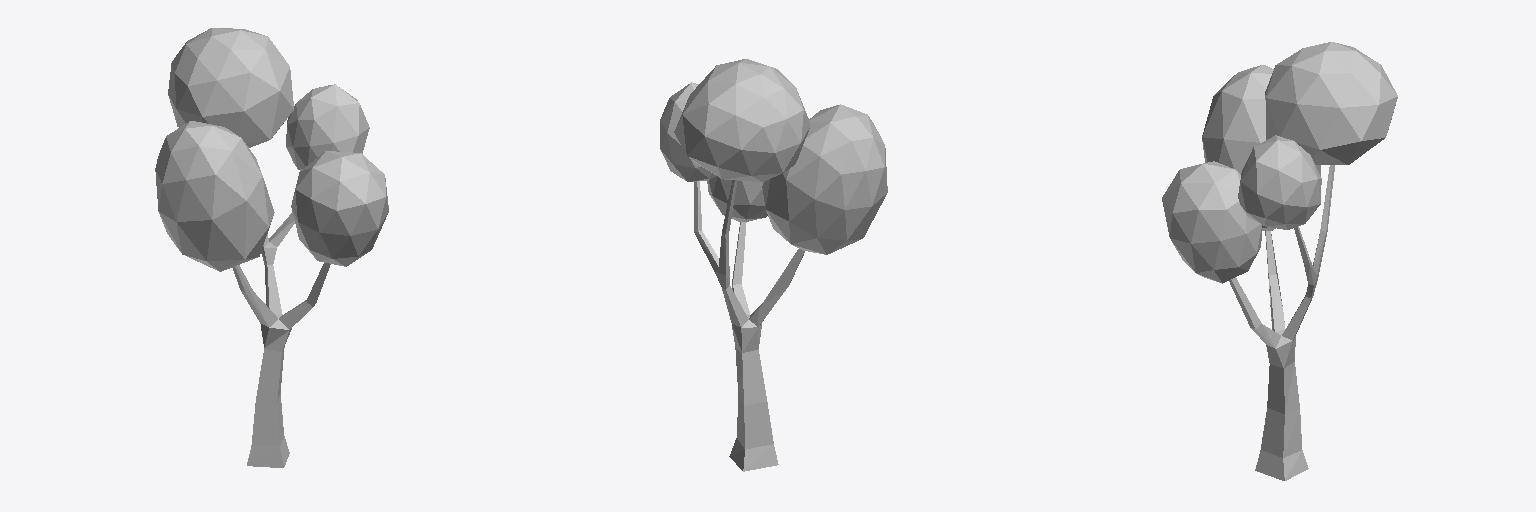
Rendered from Tree_Oak_6.obj.
3 renders of one model, left to right at view 1: azimuth 30°, elevation 25°; view 2: azimuth 150°, elevation 25°; view 3: azimuth 270°, elevation 25°, orthographic.
Parts seen in each view (by area): view 1: Icosphere.062_Icosphere.099, Icosphere.059_Icosphere.096, Icosphere.061_Icosphere.098, Cube.084_Cube.215, Icosphere.060_Icosphere.097; view 2: Icosphere.062_Icosphere.099, Icosphere.059_Icosphere.096, Cube.084_Cube.215, Icosphere.060_Icosphere.097, Icosphere.061_Icosphere.098; view 3: Icosphere.059_Icosphere.096, Icosphere.061_Icosphere.098, Cube.084_Cube.215, Icosphere.060_Icosphere.097, Icosphere.062_Icosphere.099.
Boxes of the visible parts, x1=… form: Icosphere.062_Icosphere.099: x1=155, y1=121, x2=274, y2=271; Icosphere.059_Icosphere.096: x1=168, y1=28, x2=293, y2=147; Icosphere.061_Icosphere.098: x1=291, y1=151, x2=388, y2=266; Cube.084_Cube.215: x1=232, y1=212, x2=330, y2=467; Icosphere.060_Icosphere.097: x1=286, y1=84, x2=369, y2=170; Icosphere.062_Icosphere.099: x1=762, y1=104, x2=887, y2=254; Icosphere.059_Icosphere.096: x1=674, y1=59, x2=810, y2=181; Cube.084_Cube.215: x1=694, y1=180, x2=804, y2=471; Icosphere.060_Icosphere.097: x1=660, y1=82, x2=715, y2=181; Icosphere.061_Icosphere.098: x1=707, y1=176, x2=767, y2=221; Icosphere.059_Icosphere.096: x1=1265, y1=42, x2=1397, y2=164; Icosphere.061_Icosphere.098: x1=1162, y1=161, x2=1261, y2=283; Cube.084_Cube.215: x1=1229, y1=165, x2=1334, y2=480; Icosphere.060_Icosphere.097: x1=1238, y1=135, x2=1321, y2=229; Icosphere.062_Icosphere.099: x1=1202, y1=65, x2=1320, y2=230.
Bounding box in the file's own units: 3.38 × 6.38 × 3.29.